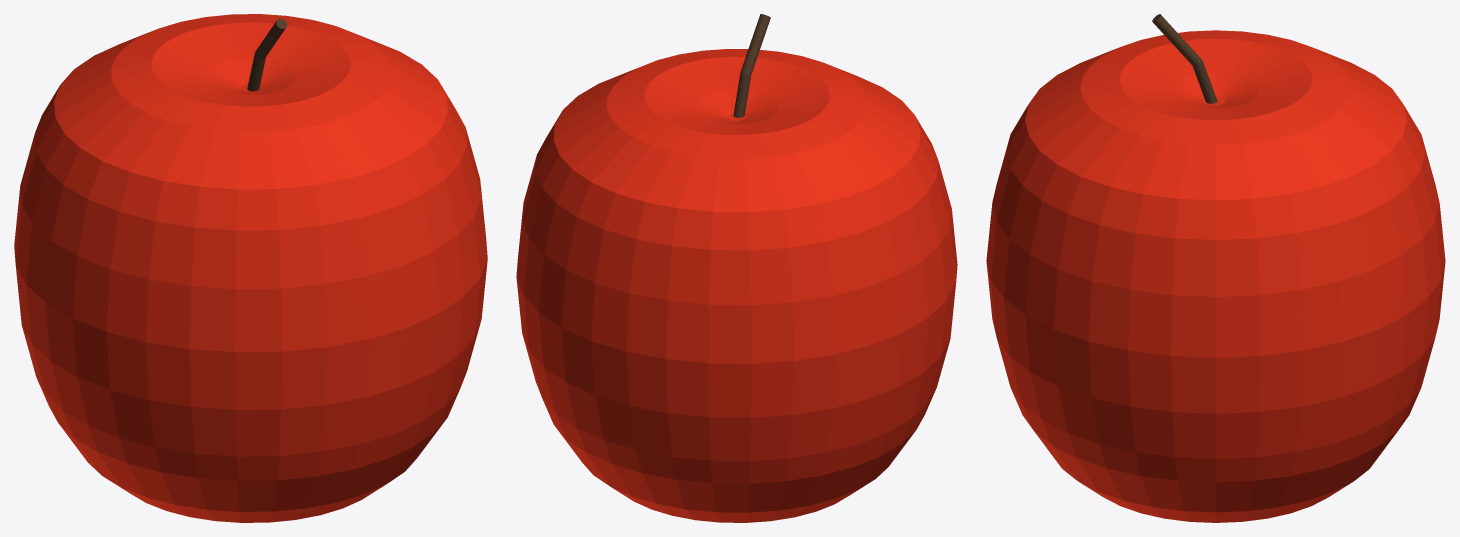
File: PommeRouge.fbx
The picture shows the model from 3 angles, left to right: view 1: azimuth 30°, elevation 25°; view 2: azimuth 150°, elevation 25°; view 3: azimuth 270°, elevation 25°; orthographic projection. The views are drawn at different scales.
Parts seen in each view (by area): view 1: Cylinder, Plane; view 2: Cylinder, Plane; view 3: Cylinder, Plane.
Part boxes in pixels (x1=…): Cylinder: x1=14, y1=14, x2=487, y2=522; Plane: x1=247, y1=18, x2=287, y2=91; Cylinder: x1=516, y1=49, x2=957, y2=522; Plane: x1=733, y1=14, x2=770, y2=117; Cylinder: x1=986, y1=30, x2=1445, y2=522; Plane: x1=1152, y1=14, x2=1217, y2=103.
Size of the model in its own units: 79.21 by 88.17 by 79.21.
